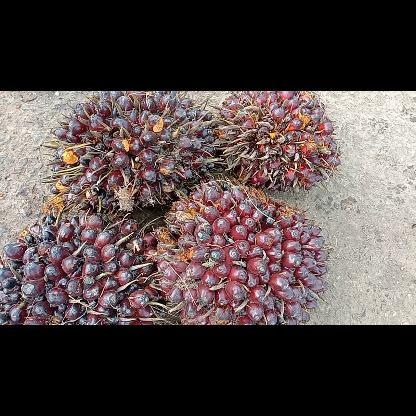Kurang masak: (40, 90, 222, 214), (0, 208, 171, 325), (205, 91, 343, 193)
TBS masak: (153, 174, 330, 324)
